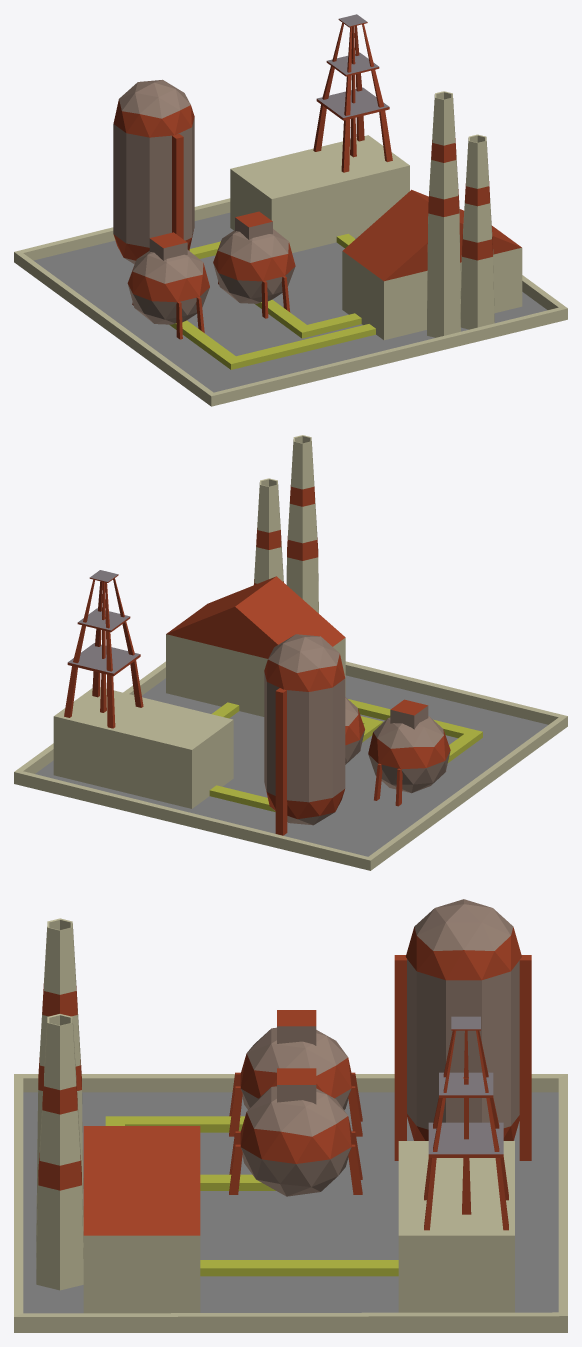
The model's file is Oil ref.fbx.
3 views of the same model, one above another, from view 1: azimuth 30°, elevation 25°; view 2: azimuth 150°, elevation 25°; view 3: azimuth 270°, elevation 25° (orthographic). The views are drawn at different scales.
Visible parts, largest first — view 1: Plane, Buidlings, balls.001, chims, metal frame, Pipes; view 2: Plane, Buidlings, balls.001, chims, metal frame, Pipes; view 3: Plane, balls.001, Buidlings, chims, metal frame, Pipes.
Boxes of the visible parts, bbox=[...] form: Plane: bbox=[14, 198, 567, 406]; Buidlings: bbox=[230, 135, 522, 340]; balls.001: bbox=[113, 79, 295, 339]; chims: bbox=[427, 91, 494, 337]; metal frame: bbox=[313, 14, 392, 172]; Pipes: bbox=[169, 233, 375, 369]; Plane: bbox=[14, 661, 567, 870]; Buidlings: bbox=[53, 576, 345, 808]; balls.001: bbox=[264, 634, 450, 835]; chims: bbox=[254, 435, 318, 613]; metal frame: bbox=[64, 570, 143, 728]; Pipes: bbox=[209, 699, 482, 811]; Plane: bbox=[14, 1074, 567, 1332]; balls.001: bbox=[229, 899, 531, 1196]; Buidlings: bbox=[83, 1126, 514, 1313]; chims: bbox=[36, 918, 83, 1290]; metal frame: bbox=[424, 1016, 508, 1230]; Pipes: bbox=[105, 1116, 398, 1276].
Size of the model in its own units: 992 by 644 by 951.
